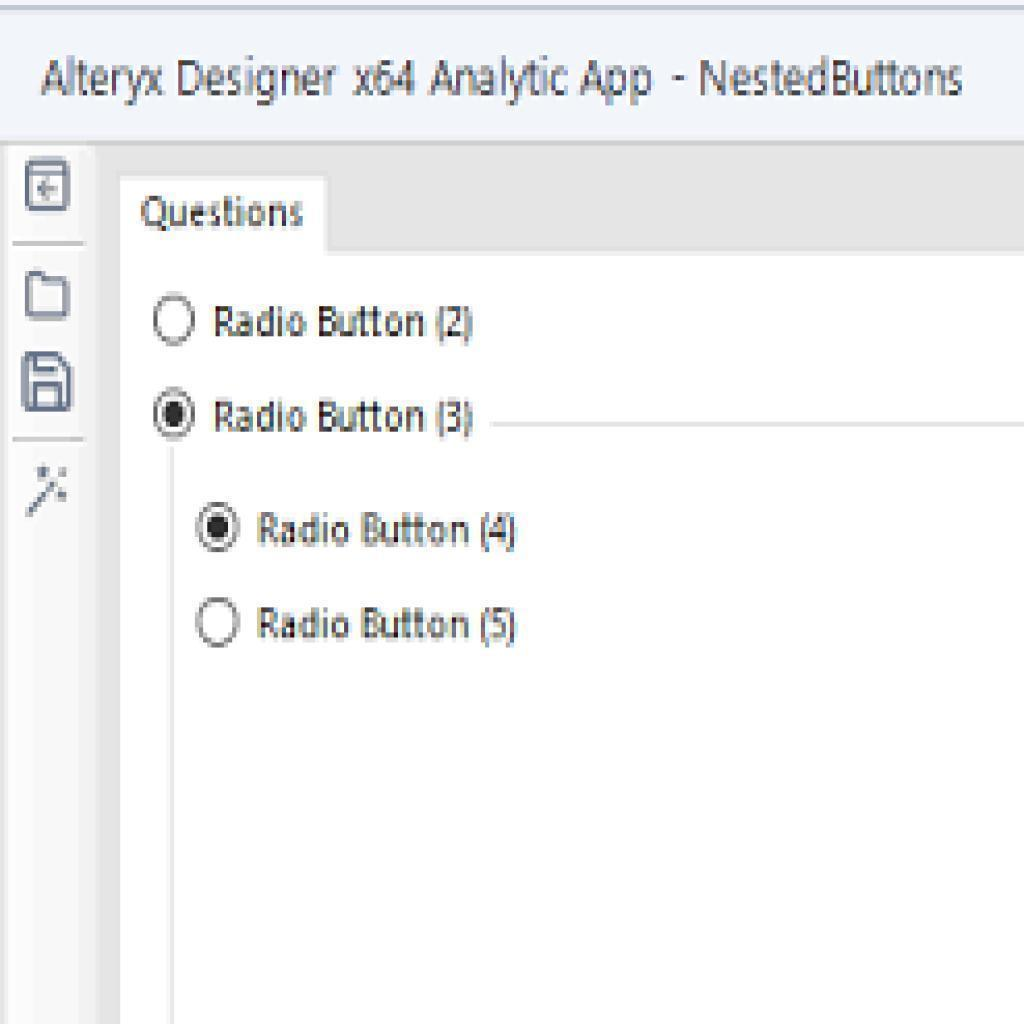icon: (19, 349, 82, 414), (23, 459, 80, 521), (23, 264, 75, 326), (24, 156, 73, 212)
label: (201, 292, 475, 346), (258, 501, 522, 556), (255, 599, 521, 652), (209, 389, 479, 438)
radio: (194, 490, 240, 558), (150, 289, 200, 351), (192, 590, 244, 648), (150, 383, 198, 445)
